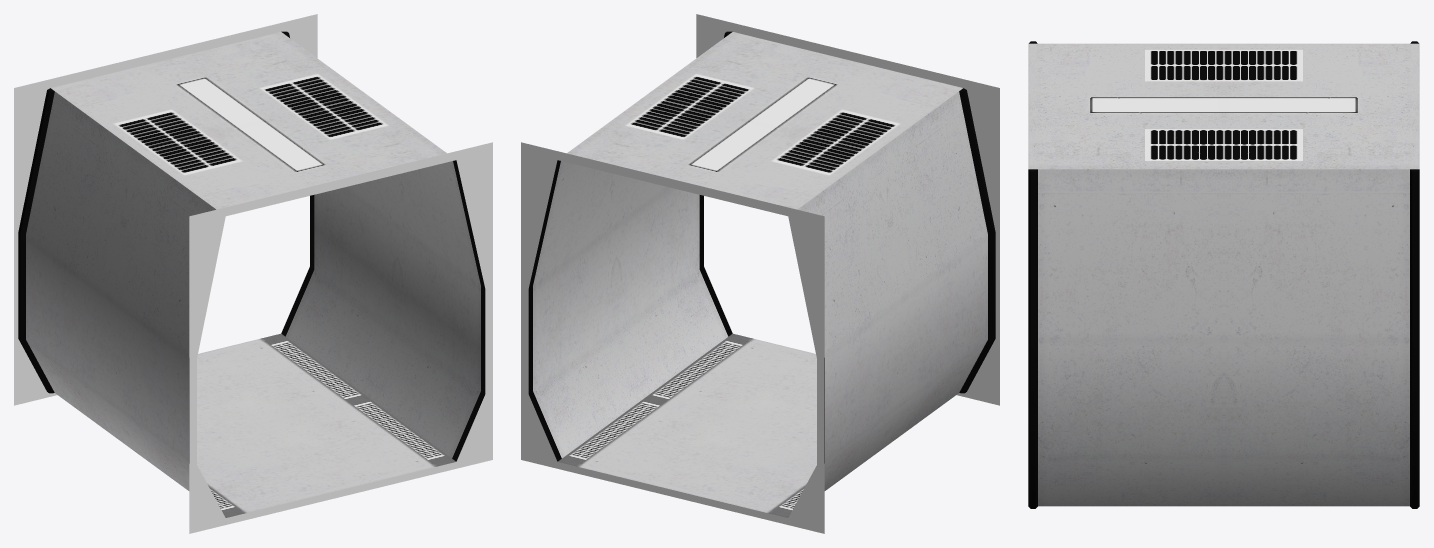
Rendered from rouka3rd_3.fbx.
The picture shows the model from 3 angles, left to right: view 1: azimuth 30°, elevation 25°; view 2: azimuth 150°, elevation 25°; view 3: azimuth 270°, elevation 25°; orthographic projection. The views are drawn at different scales.
Parts seen in each view (by area): view 1: Cube; view 2: Cube; view 3: Cube.
Boxes of the visible parts, x1=… form: Cube: x1=14, y1=14, x2=492, y2=533; Cube: x1=521, y1=14, x2=999, y2=533; Cube: x1=1028, y1=41, x2=1419, y2=508.
Size of the model in its own units: 2 by 2 by 2.
